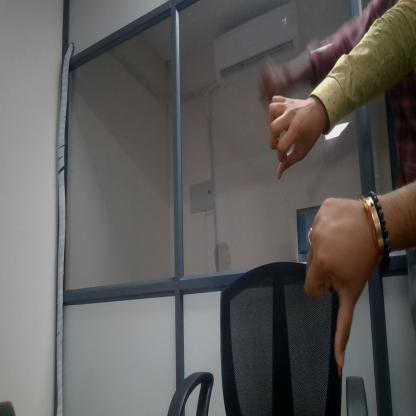Thumbs Down: (301, 179, 395, 390)
